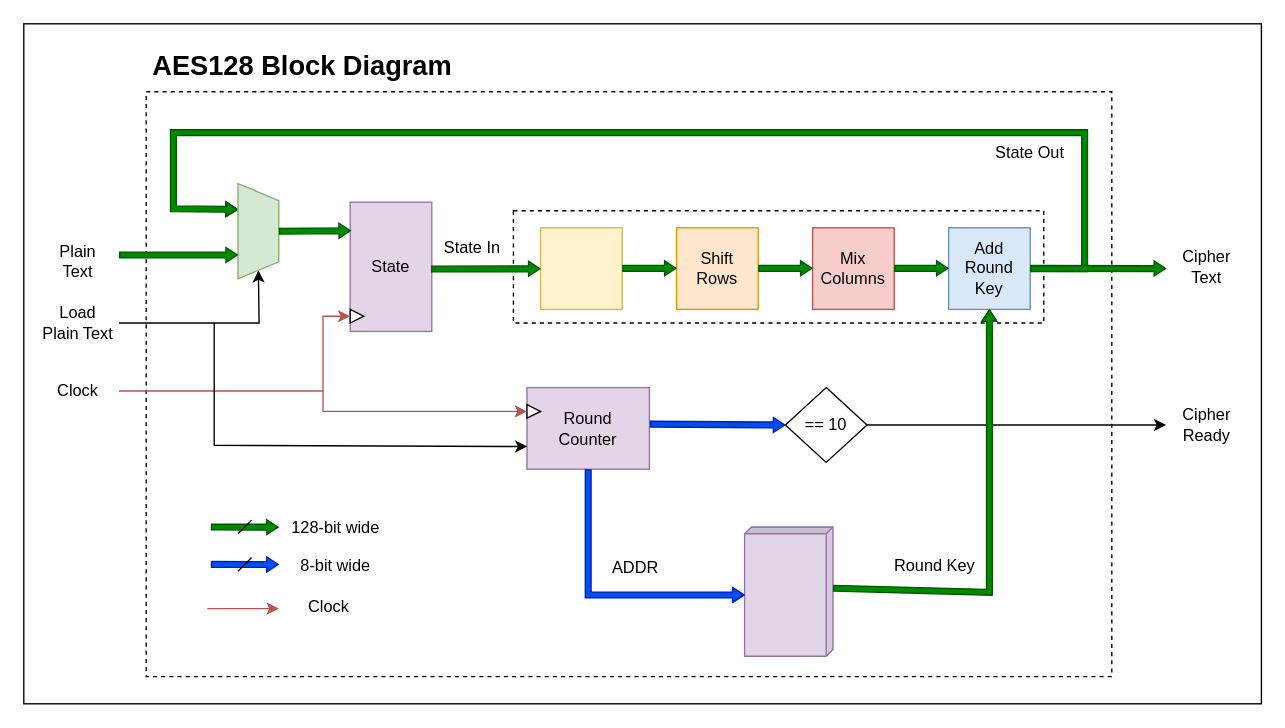
The diagram is 1285 pixels wide and 728 high, and some of its shapes have lost their labels. Each missing label, with the centre of its shape:
I/P Mux: (x=258, y=230)
Round Keys Memory: (x=788, y=591)
Sub Bytes: (x=580, y=267)
